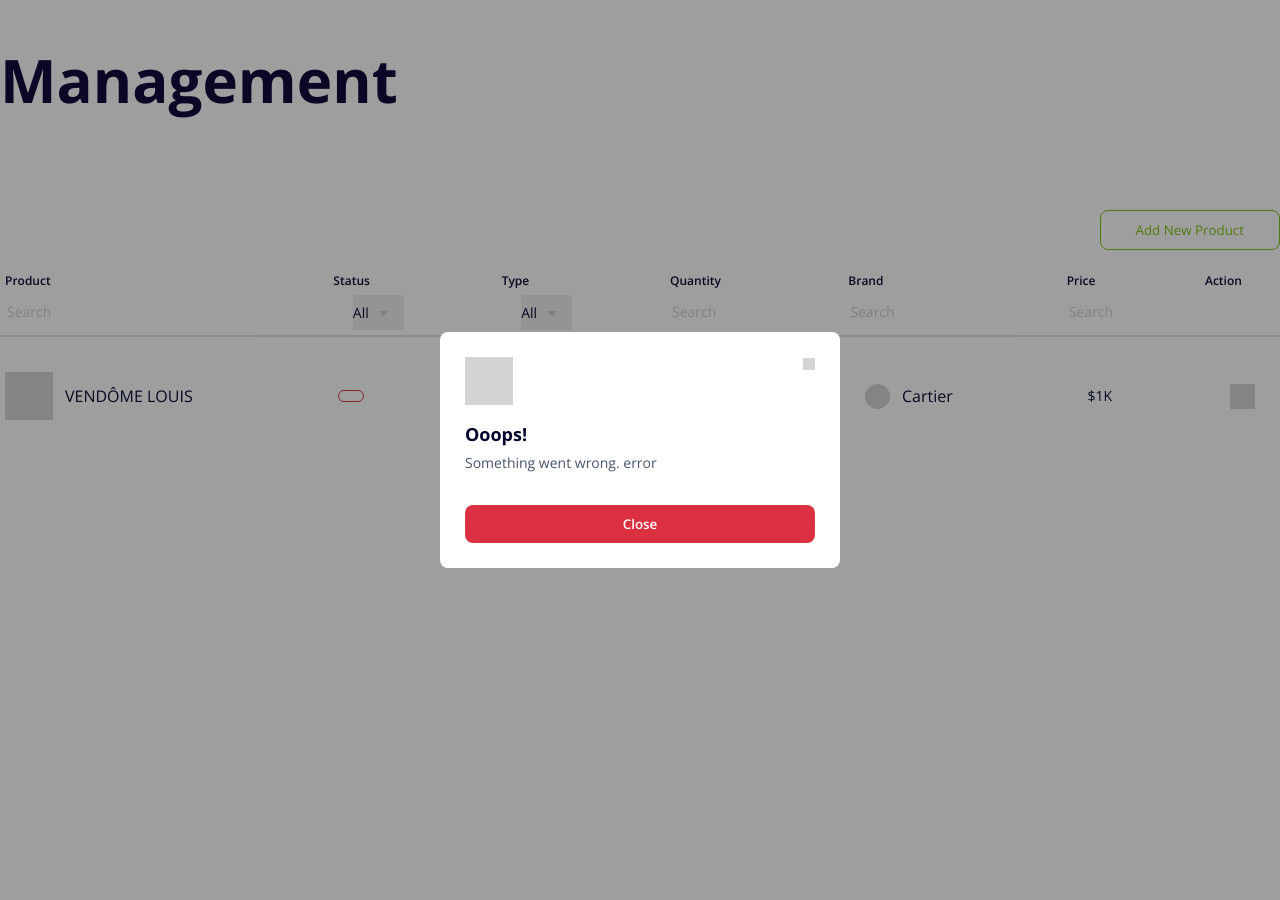
HomePage › Should render NotificationModal when have error and click Close button
Click the button "Close". click: (640, 524)
box: [465,505,815,543]
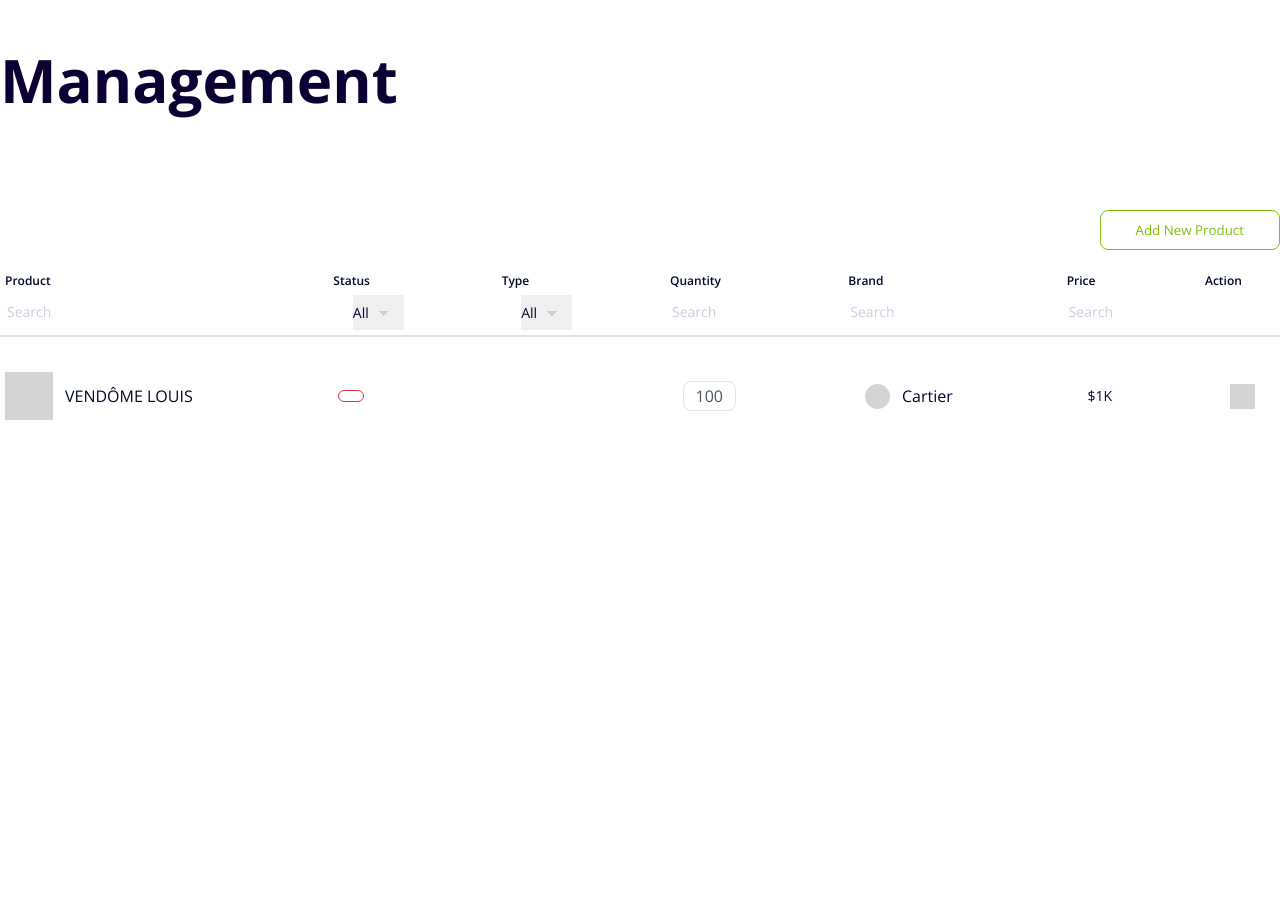
Expected: the text "Ooops!" is gone
